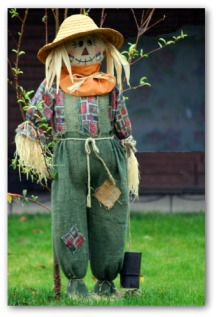person-like: (11, 12, 149, 301)
